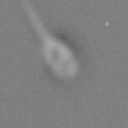normal: (19, 1, 51, 43)
